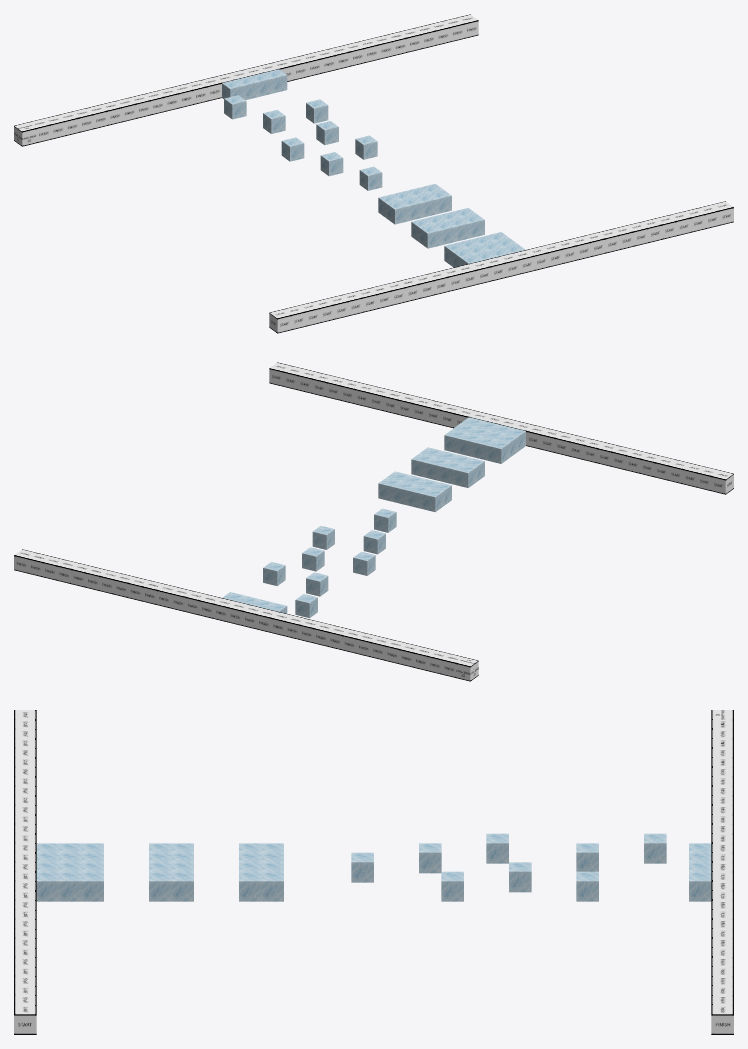
The model's file is challenge32_05.gltf.
3 renders of one model, top to bottom at view 1: azimuth 30°, elevation 25°; view 2: azimuth 150°, elevation 25°; view 3: azimuth 270°, elevation 25°, orthographic. The views are drawn at different scales.
Parts seen in each view (by area): view 1: map; view 2: map; view 3: map.
Boxes of the visible parts, x1,y1,x2,y2 form: map: (14,14,733,333); map: (14,362,733,681); map: (14,710,733,1034).
Size of the model in its own units: 64 by 2 by 64.
4 materials, 4 textured.
